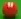red: (0, 0, 21, 19)
